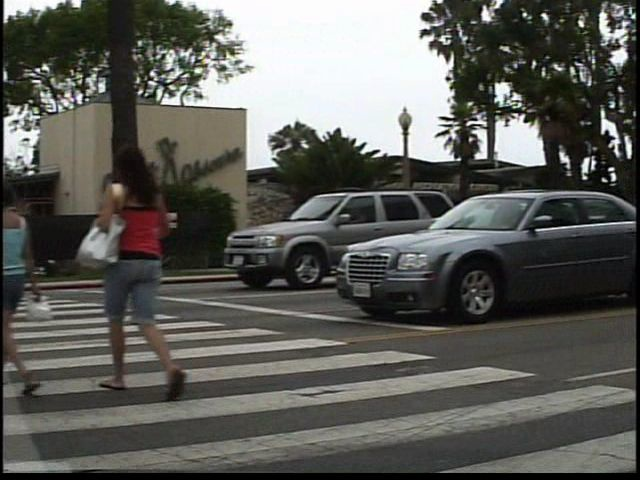person: (100, 140, 201, 408)
